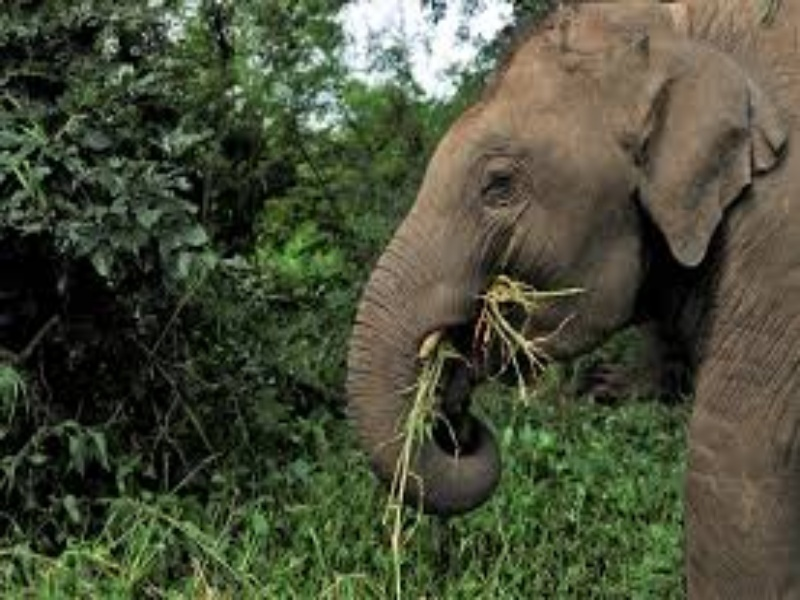elephant: (334, 1, 800, 600)
